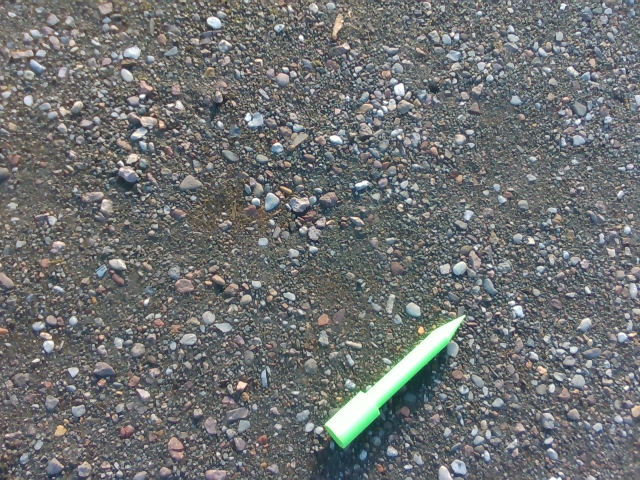Probe: (322, 309, 471, 456)
